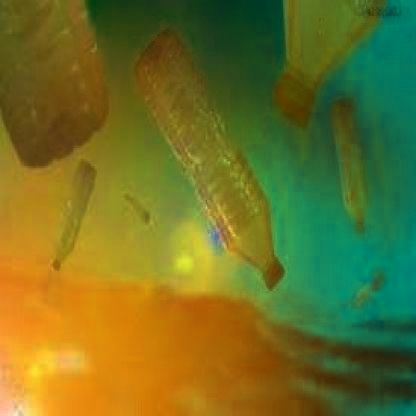pbottle: (127, 25, 287, 293), (1, 2, 115, 173), (265, 2, 399, 132), (319, 91, 371, 245), (38, 157, 100, 273), (344, 266, 390, 318), (112, 182, 156, 229)
